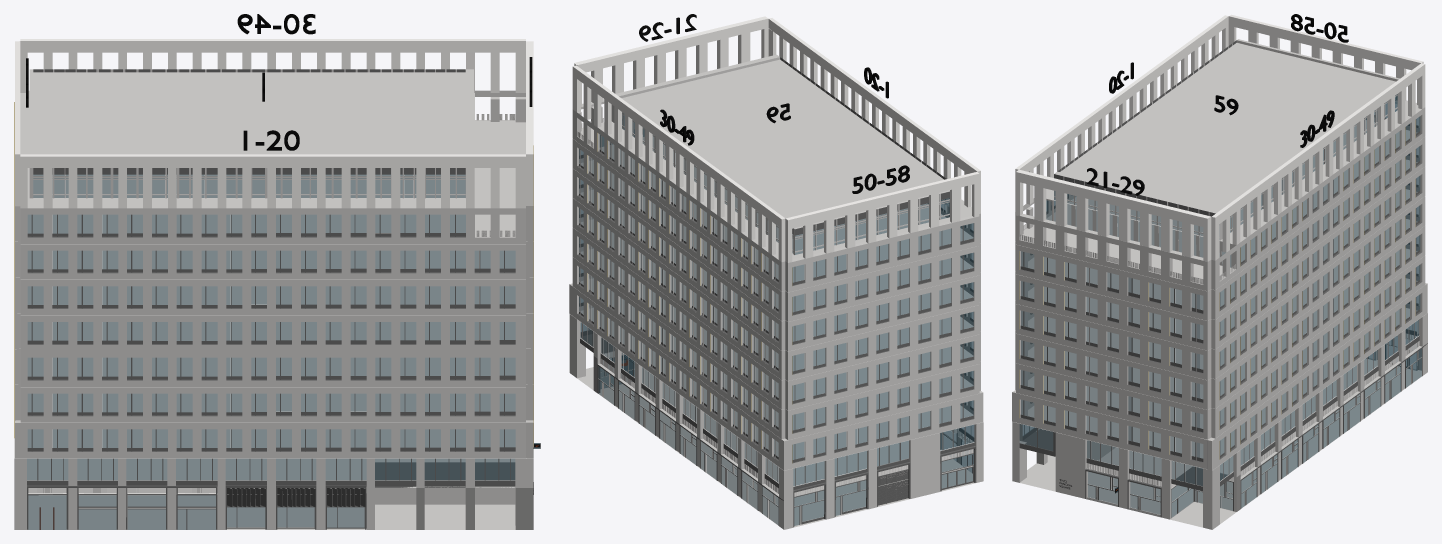
File: 2PancrasSquare.glb
3 renders of one model, left to right at view 1: azimuth 30°, elevation 25°; view 2: azimuth 150°, elevation 25°; view 3: azimuth 270°, elevation 25°, orthographic. The views are drawn at different scales.
Parts seen in each view (by area): view 1: Cube.005, Drop59, Drop1, Drop3, Drop7, Drop5, Drop9, Drop11, Drop13, Drop15, Drop17, Drop14 (+11 smaller); view 2: Cube.005, Drop58, Drop59, Drop53, Drop51, Drop55, Drop57, Drop52, Drop50, Drop54, Drop56, Drop35 (+13 smaller); view 3: Cube.005, Drop59, Drop21, Drop27, Drop25, Drop22, Drop24, Drop26, Drop28, Drop29, Drop23, Drop43 (+12 smaller).
Part boxes in pixels (x1,y1,x2,y2): Cube.005: (14,39,540,529); Drop59: (33,175,465,197); Drop1: (27,215,50,479); Drop3: (77,215,100,479); Drop7: (176,215,199,479); Drop5: (126,215,150,479); Drop9: (226,215,249,479); Drop11: (276,215,299,479); Drop13: (326,215,349,479); Drop15: (375,215,398,479); Drop17: (425,215,448,479); Drop14: (351,215,366,479); Cube.005: (569,16,983,529); Drop58: (954,223,973,446); Drop59: (622,113,949,254); Drop53: (847,249,866,472); Drop51: (806,259,824,482); Drop55: (890,239,908,462); Drop57: (939,229,952,450); Drop52: (834,254,846,476); Drop50: (792,265,804,485); Drop54: (876,244,888,465); Drop56: (918,234,929,428); Drop35: (629,157,634,376); Cube.005: (1012,14,1427,529); Drop59: (1054,94,1397,257); Drop21: (1020,251,1036,446); Drop27: (1143,283,1161,475); Drop25: (1101,272,1118,465); Drop22: (1038,257,1055,450); Drop24: (1086,267,1099,460); Drop26: (1128,278,1142,471); Drop28: (1170,288,1183,481); Drop29: (1185,293,1202,485); Drop23: (1065,262,1076,427); Drop43: (1347,162,1358,387).
Size of the model in its own units: 404 by 302 by 344.
Materials: 55 (1 with a texture image).
